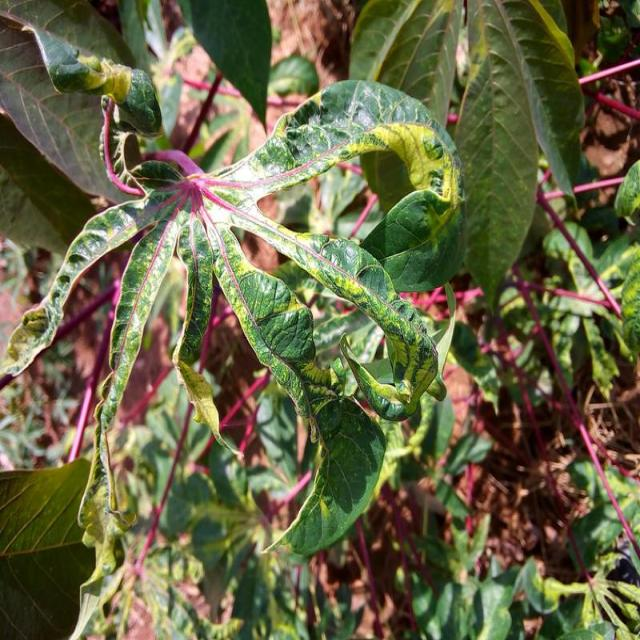cassava leaf: (2, 73, 468, 560), (259, 393, 386, 558)
